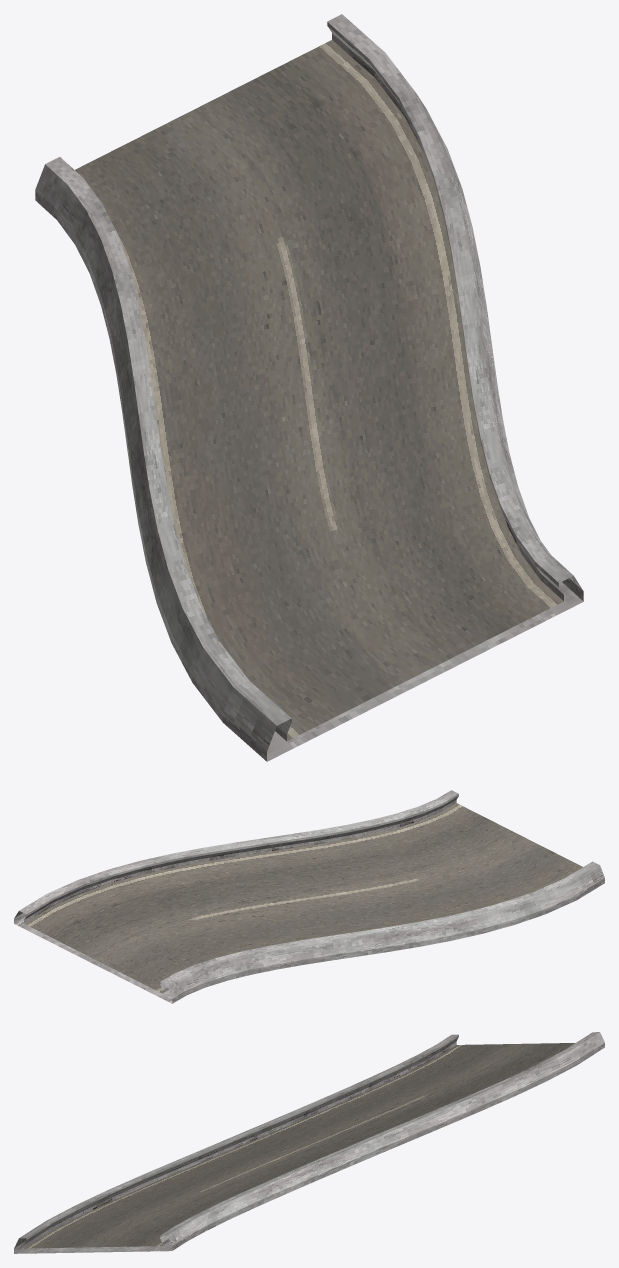
File: road-Chicane-HalfBankedLeft-HalfBankedLeft-Up1-Right1-Size3.glb
The picture shows the model from 3 angles, top to bottom: view 1: azimuth 30°, elevation 25°; view 2: azimuth 150°, elevation 25°; view 3: azimuth 330°, elevation 25°; orthographic projection. The views are drawn at different scales.
Parts seen in each view (by area): view 1: road-Chicane-HalfBankedLeft-HalfBankedLeft-Up1-Right1-Size3; view 2: road-Chicane-HalfBankedLeft-HalfBankedLeft-Up1-Right1-Size3; view 3: road-Chicane-HalfBankedLeft-HalfBankedLeft-Up1-Right1-Size3.
Boxes of the visible parts, x1,y1,x2,y2 form: road-Chicane-HalfBankedLeft-HalfBankedLeft-Up1-Right1-Size3: [35, 14, 583, 761]; road-Chicane-HalfBankedLeft-HalfBankedLeft-Up1-Right1-Size3: [14, 790, 604, 1003]; road-Chicane-HalfBankedLeft-HalfBankedLeft-Up1-Right1-Size3: [14, 1032, 604, 1253].
Size of the model in its own units: 2 by 0.5859 by 3.
2 materials, 2 textured.
